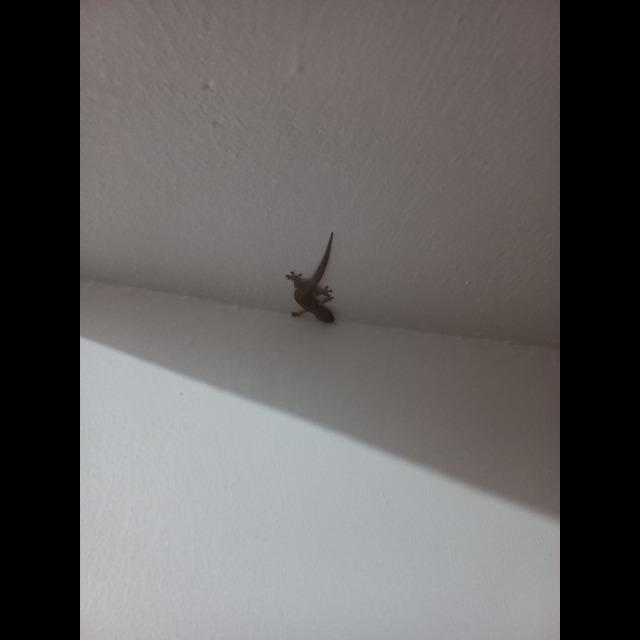lizard: (282, 231, 338, 328)
